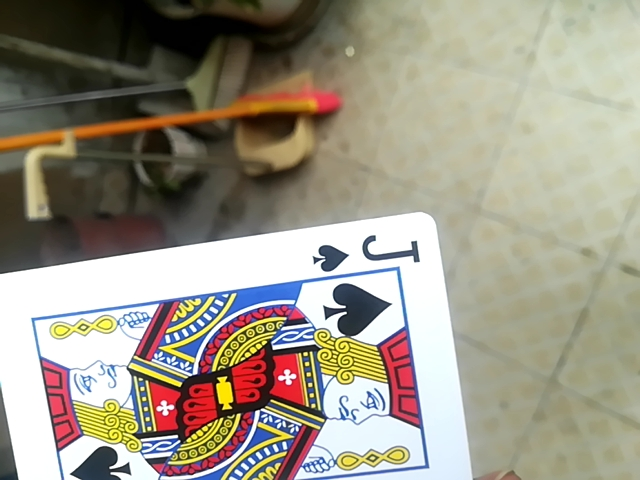ht j: (7, 214, 474, 478)
